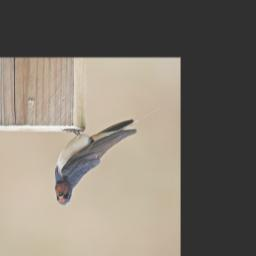Swallow: (53, 106, 163, 208)
